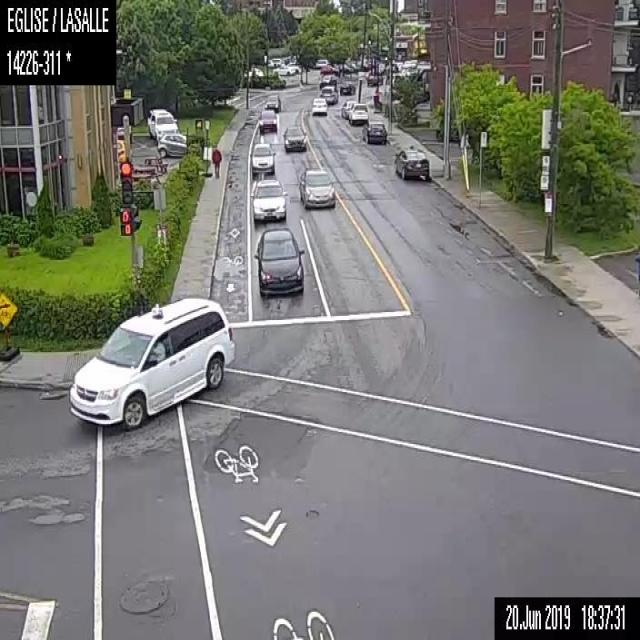pedestrian: (209, 141, 222, 180)
vehicle: (66, 292, 235, 429), (254, 224, 304, 297), (250, 176, 285, 223), (296, 167, 336, 208), (391, 144, 429, 183), (147, 108, 178, 139), (249, 138, 275, 174), (156, 131, 185, 157), (283, 123, 306, 152), (362, 118, 386, 142), (258, 107, 276, 131), (349, 102, 368, 124), (263, 92, 282, 111), (310, 96, 328, 115), (320, 85, 338, 102), (340, 99, 354, 118), (273, 62, 294, 74), (339, 80, 355, 95), (319, 74, 337, 84), (319, 64, 336, 72)
